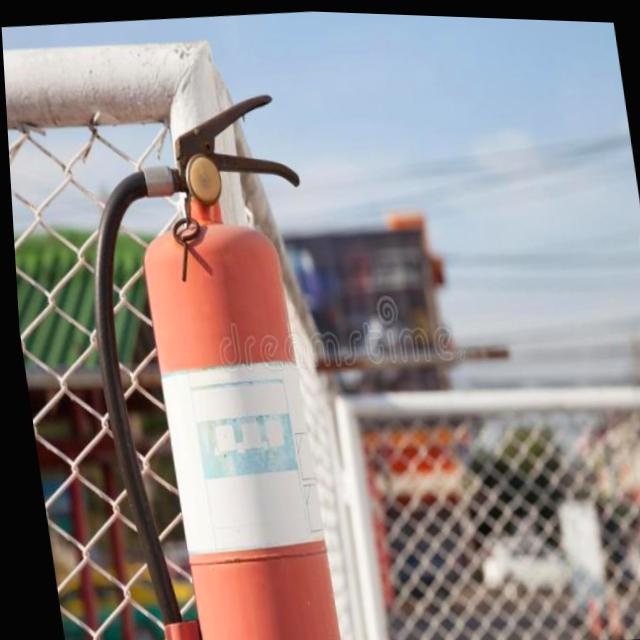FireExtinguisher: (53, 72, 366, 640)
